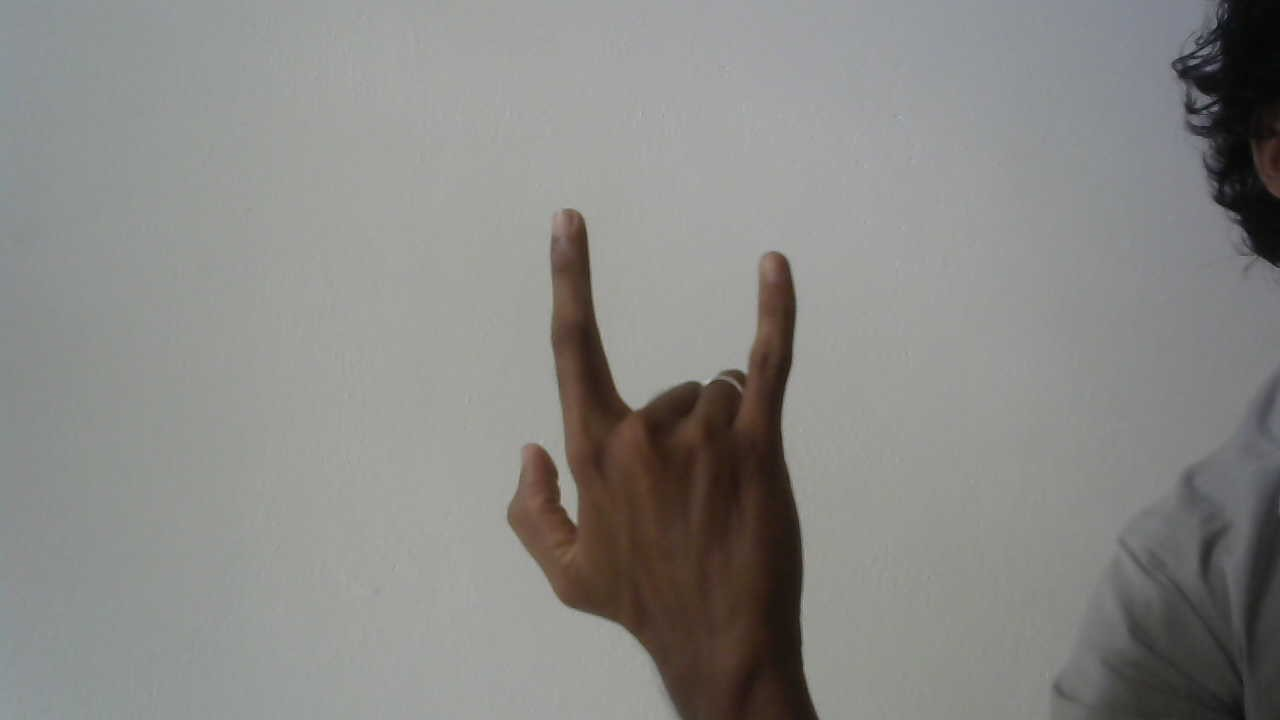iloveyou: (497, 204, 819, 657)
